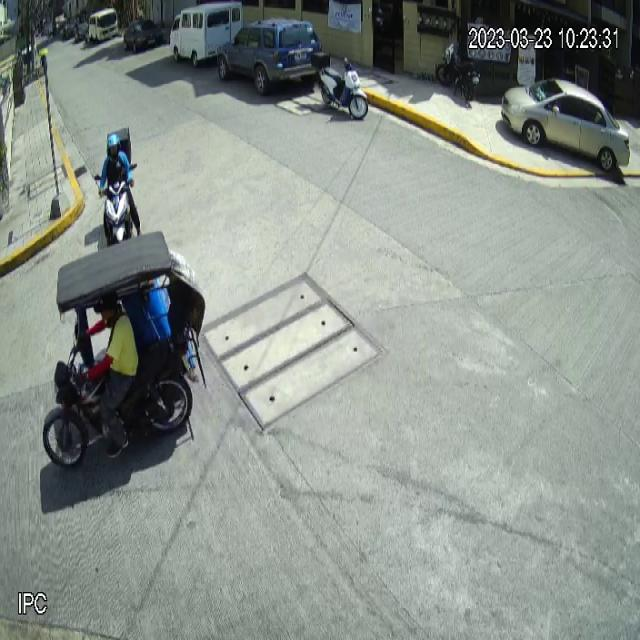Car: (500, 79, 631, 172), (217, 16, 322, 89)
Motorcycle: (93, 161, 141, 248), (310, 50, 369, 117)
Tricycle: (42, 230, 210, 471)
Van: (169, 2, 244, 68)
